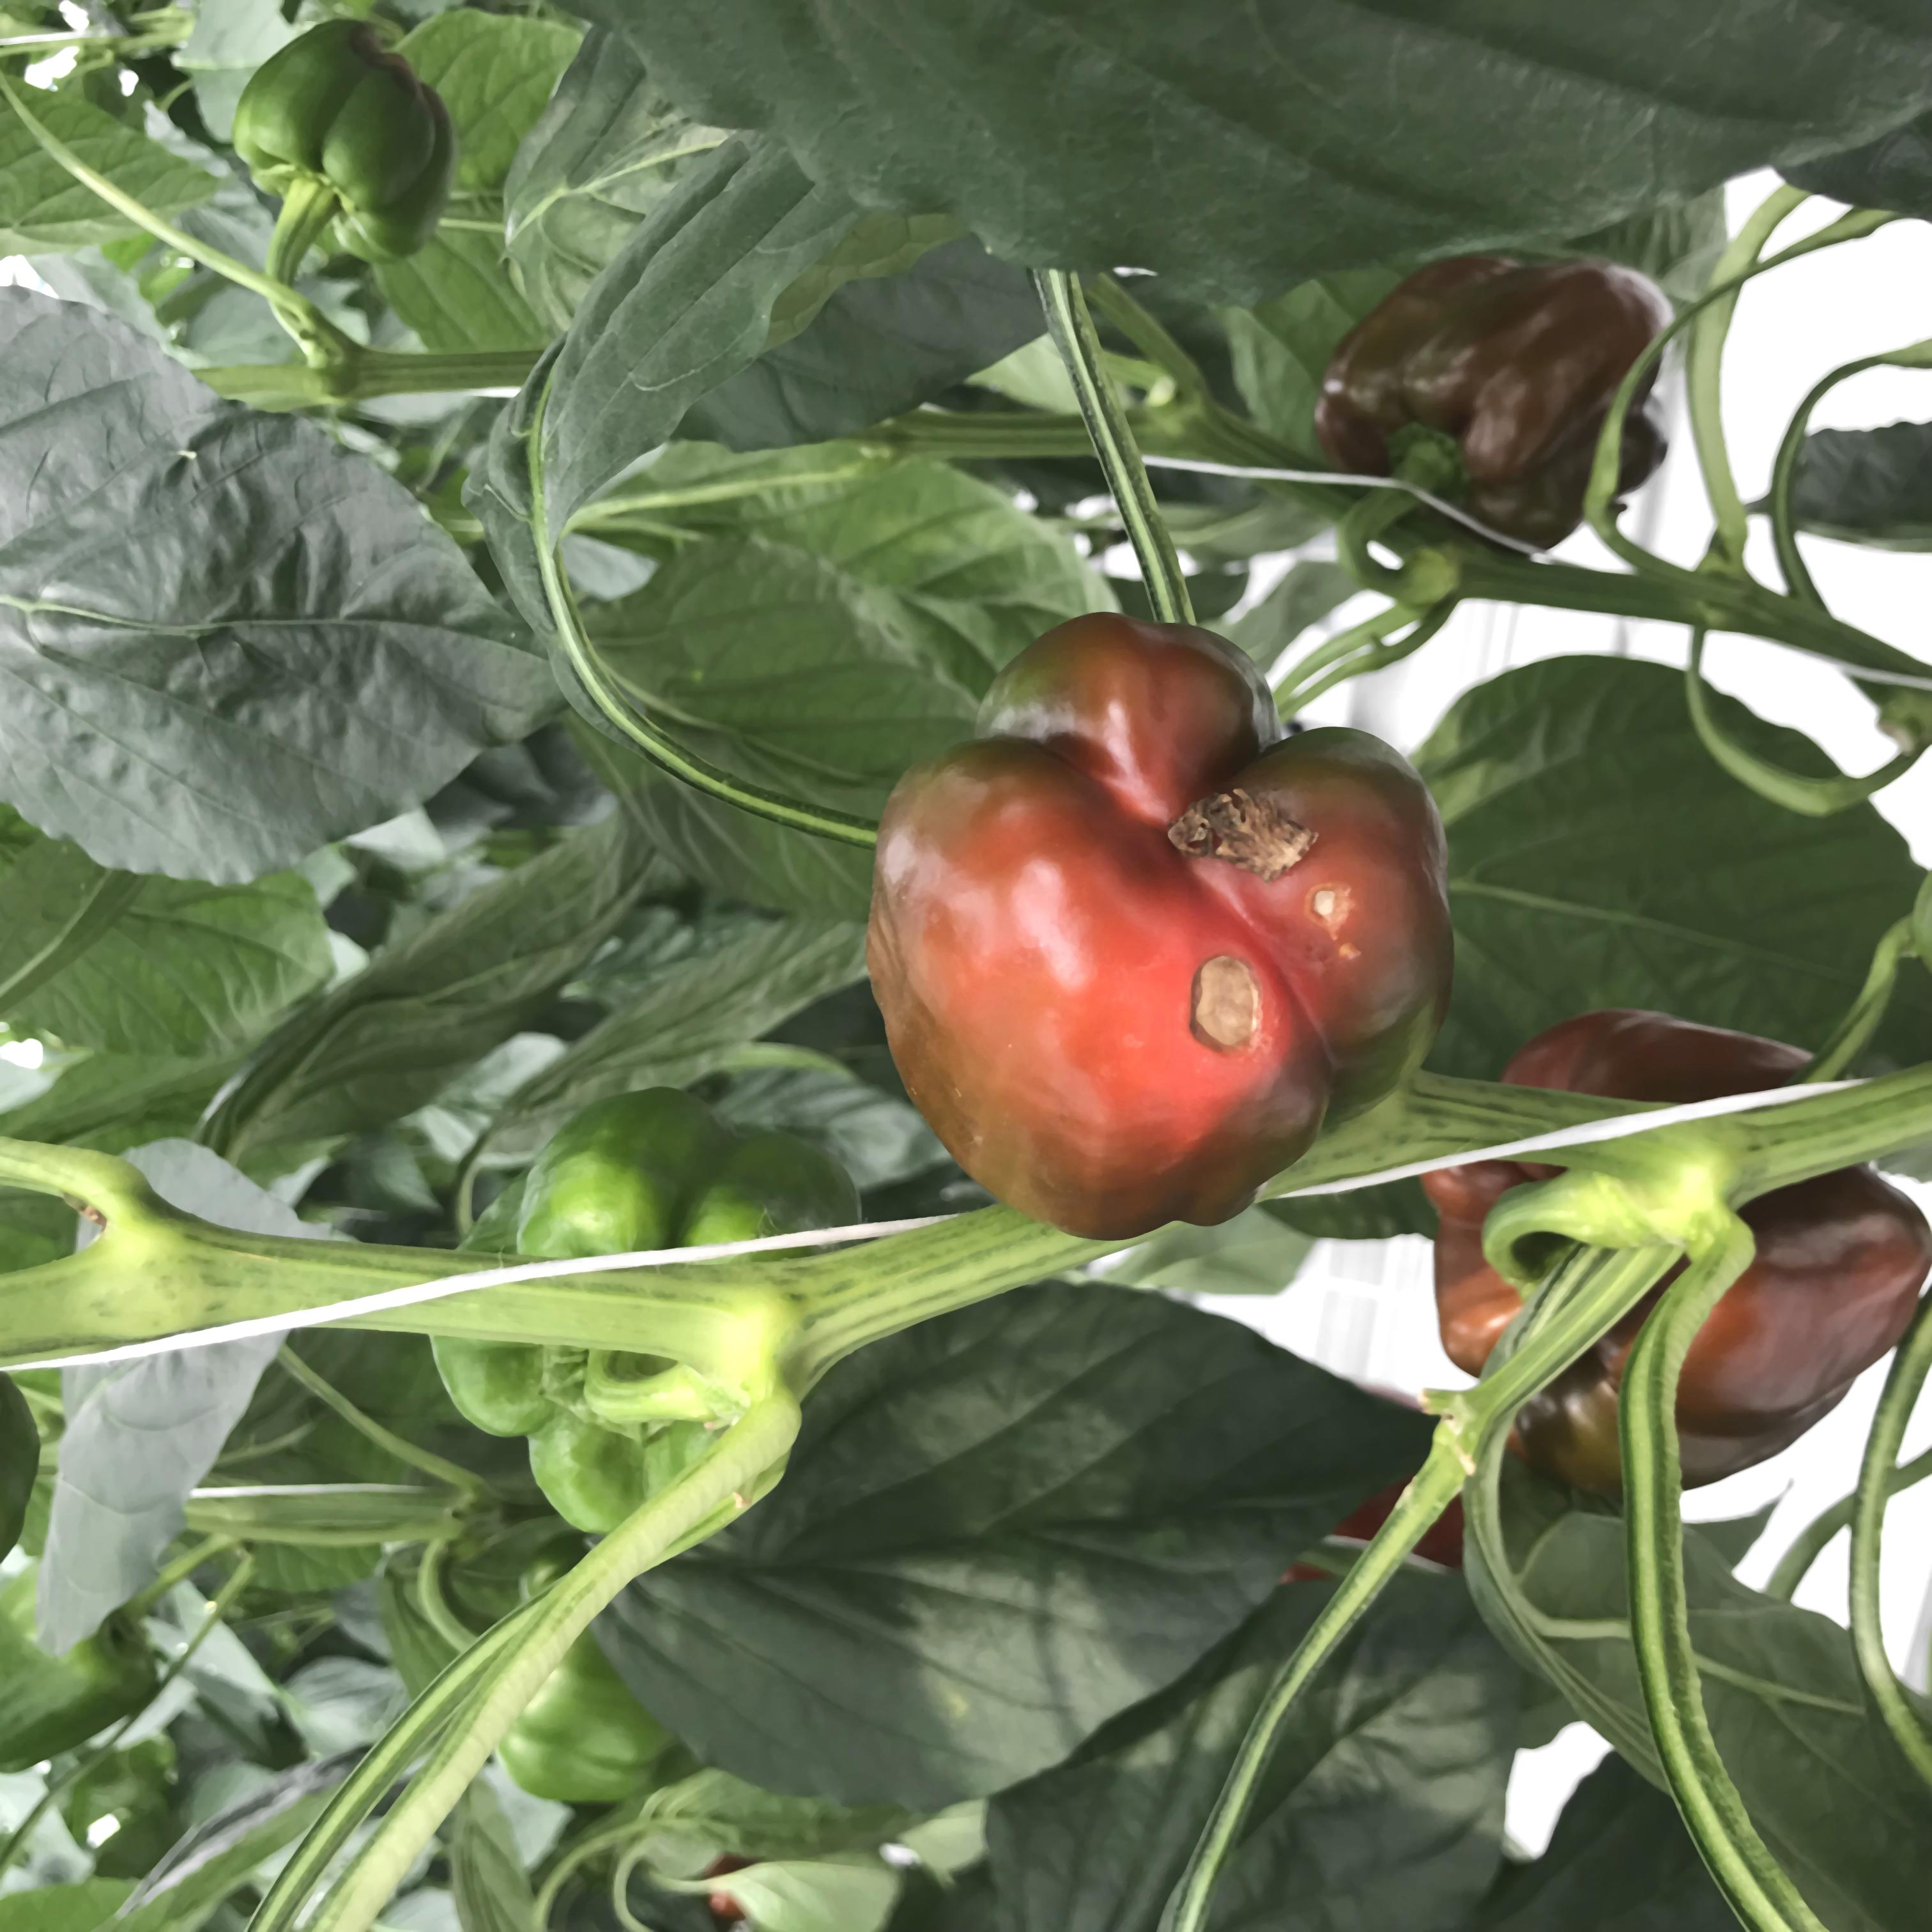blossom_end_rot: (1171, 941, 1300, 1083), (1304, 872, 1373, 961)
